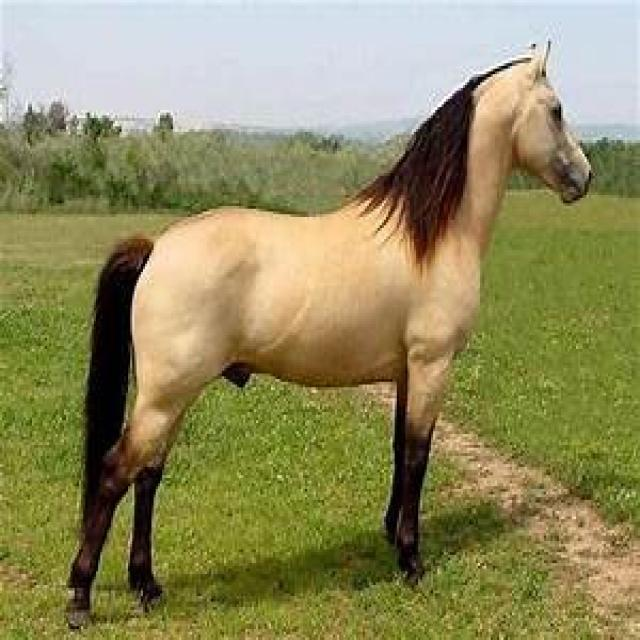horse: (69, 47, 590, 627)
